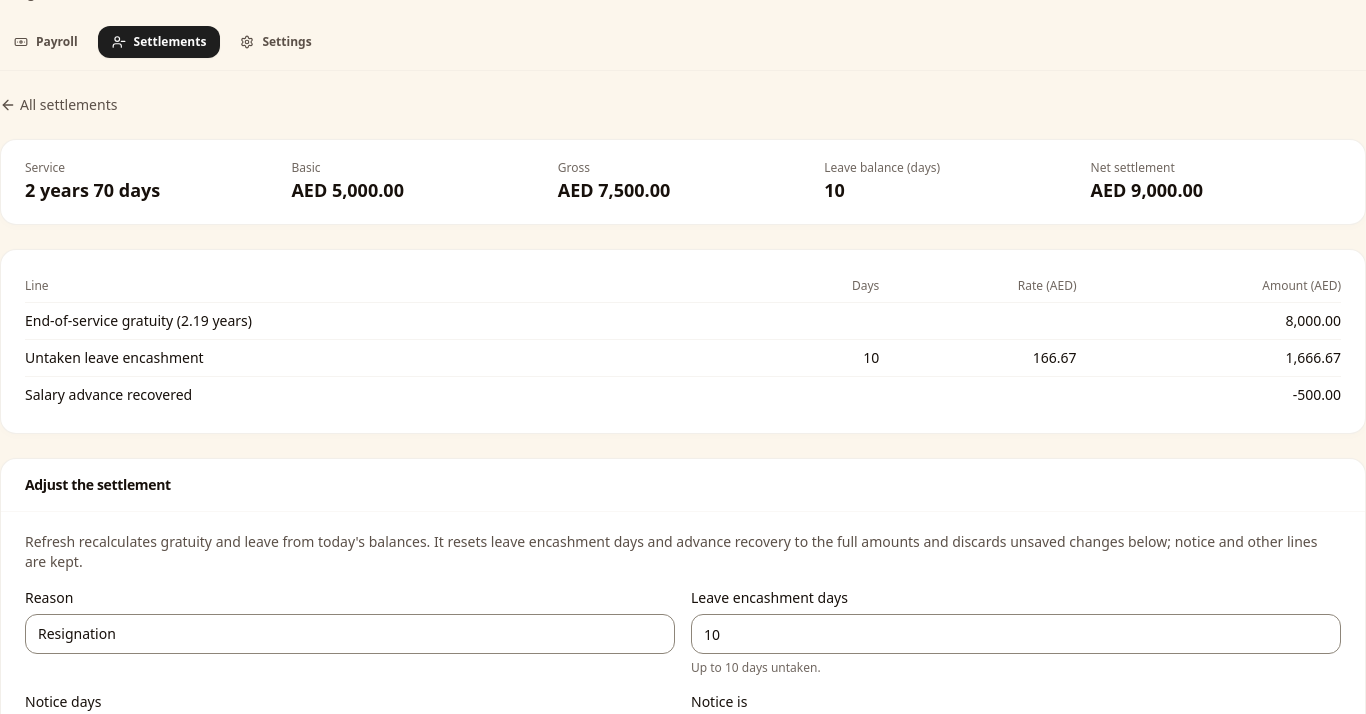
Test case: SettlementDetail › refuses to save a cleared encashment field and says how to restore it
Clear the number field labelled "Leave encashment days" at (1016, 634), box left=691, top=614, right=1341, bottom=654
(page scrolled)
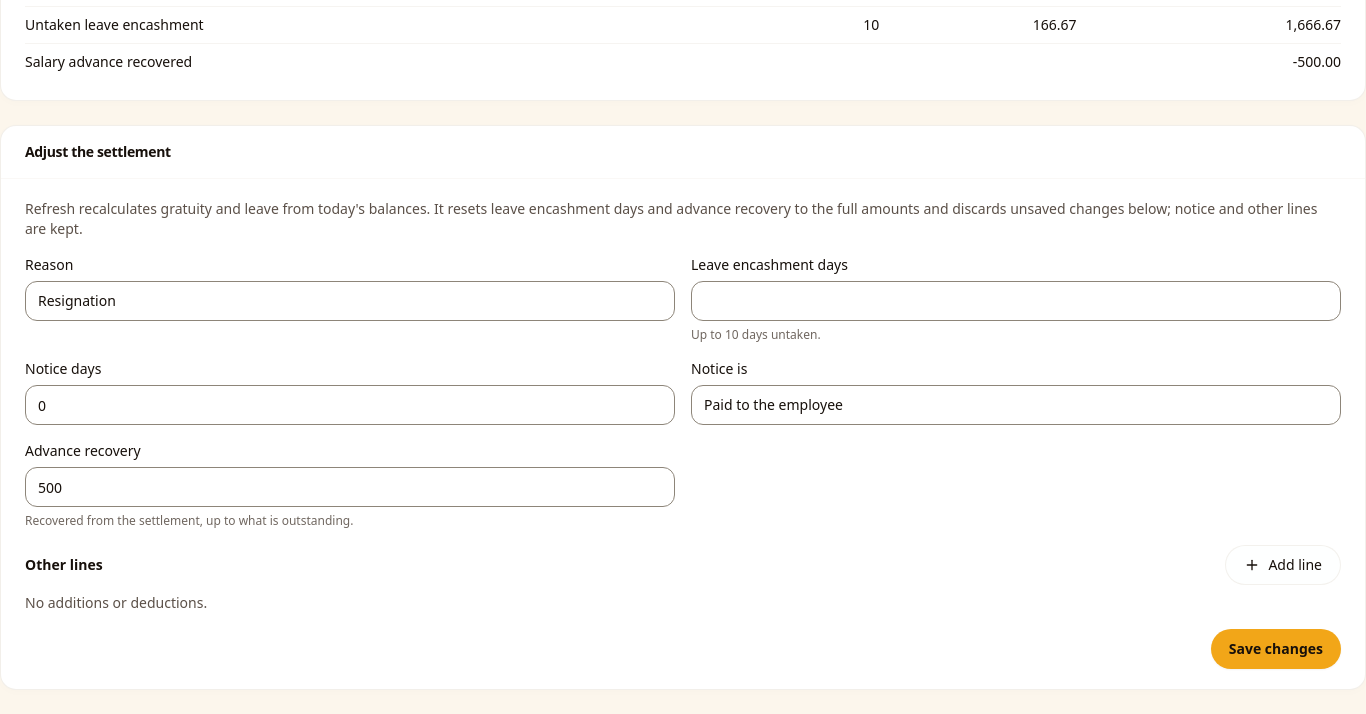
Submit the form with test id "settlement-form", box left=25, top=255, right=1341, bottom=669
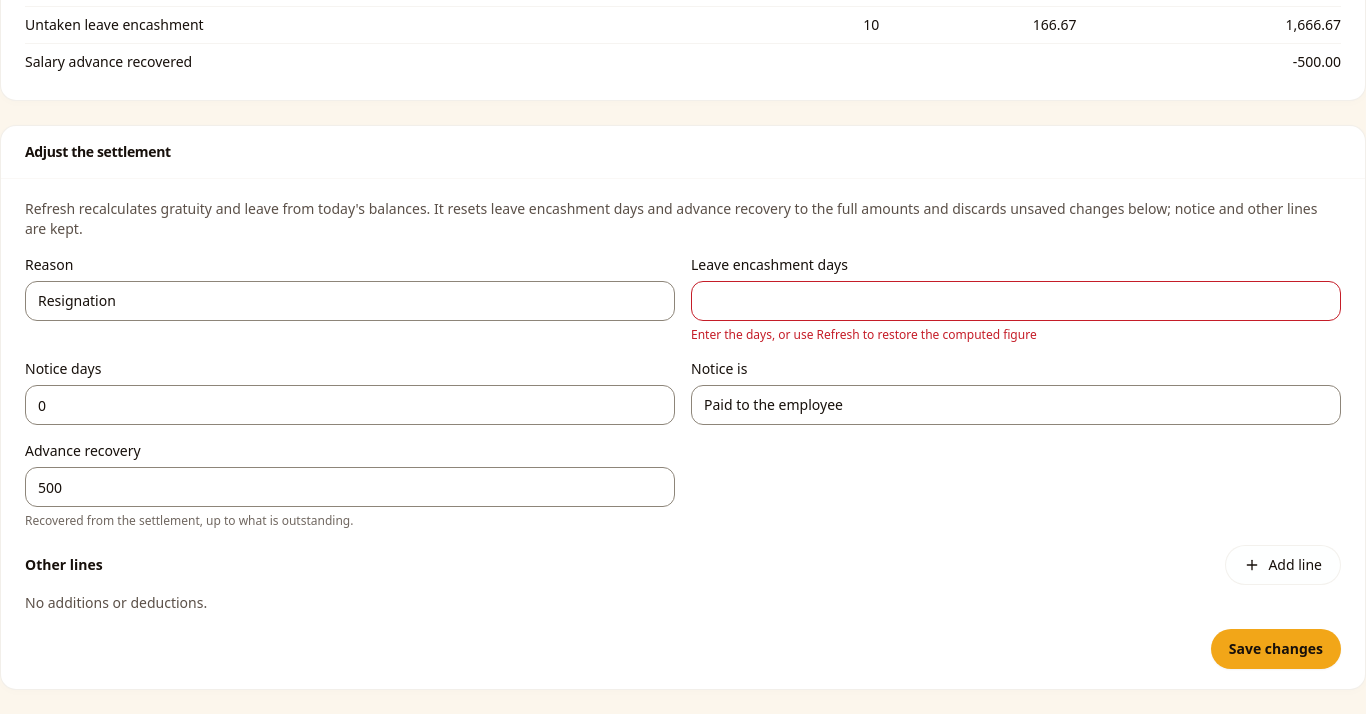
Expected: the message shows "Enter the days, or use Refresh", left=691, top=326, right=1037, bottom=343
